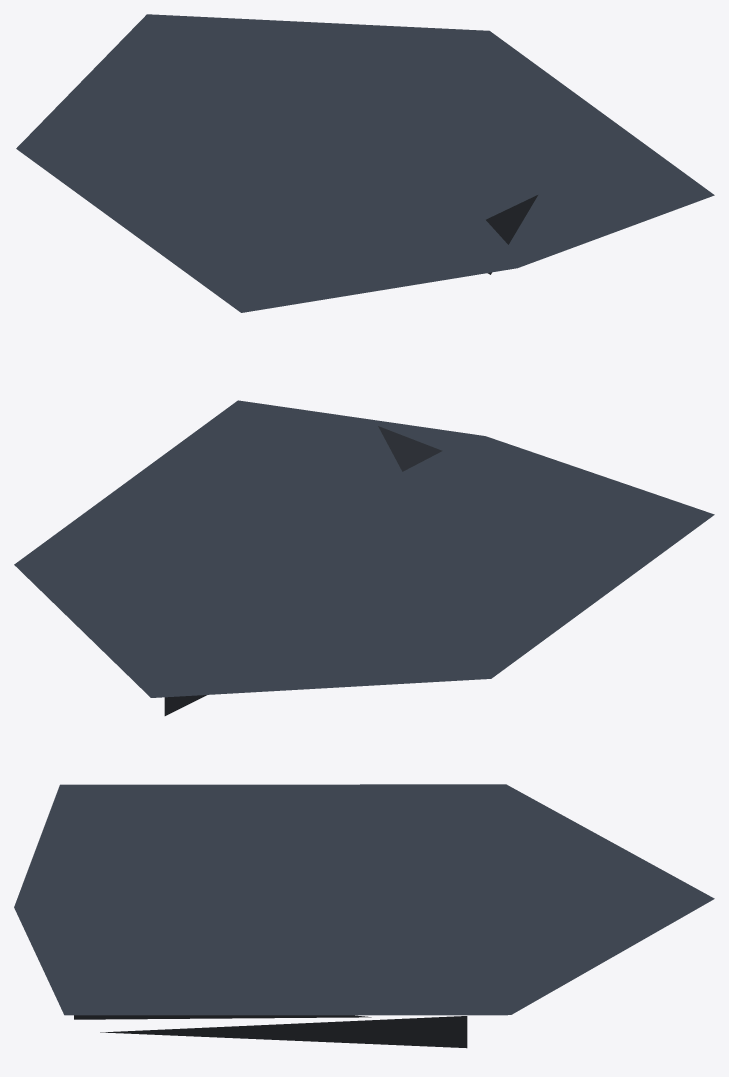
File: quadanium-heavy-shield.lod.glb
3 views of the same model, one above another, from view 1: azimuth 30°, elevation 25°; view 2: azimuth 150°, elevation 25°; view 3: azimuth 270°, elevation 25° (orthographic).
Parts seen in each view (by area): view 1: m; view 2: m; view 3: m.
Boxes of the visible parts, box(x1,y1,x2,y2) form: m: box(16, 14, 714, 312); m: box(14, 400, 714, 715); m: box(14, 784, 714, 1048).
Size of the model in its own units: 0.58 by 0.1559 by 0.7441.
